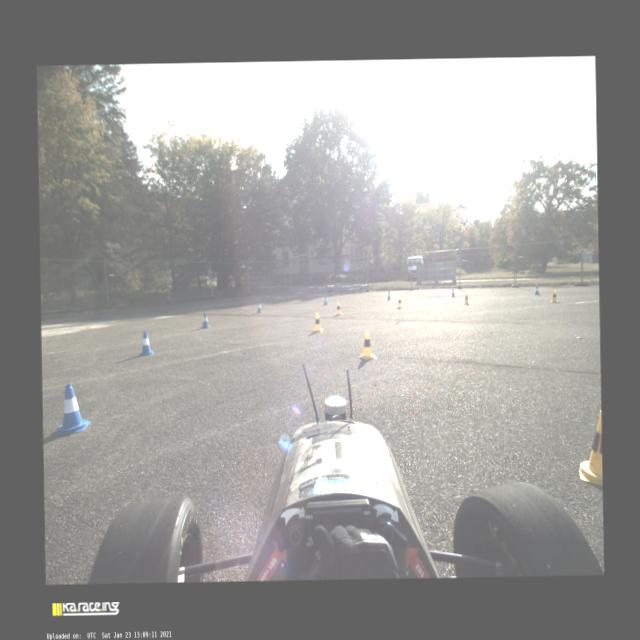blue_cone: (52, 382, 90, 438), (138, 329, 154, 356), (200, 311, 210, 329), (255, 300, 262, 314), (322, 294, 328, 305), (534, 284, 540, 295), (386, 290, 392, 300), (449, 287, 455, 297)
yellow_cone: (578, 410, 602, 488), (357, 328, 377, 360), (312, 312, 322, 332), (549, 288, 558, 304), (334, 300, 342, 316), (395, 294, 403, 308), (462, 292, 470, 304)
